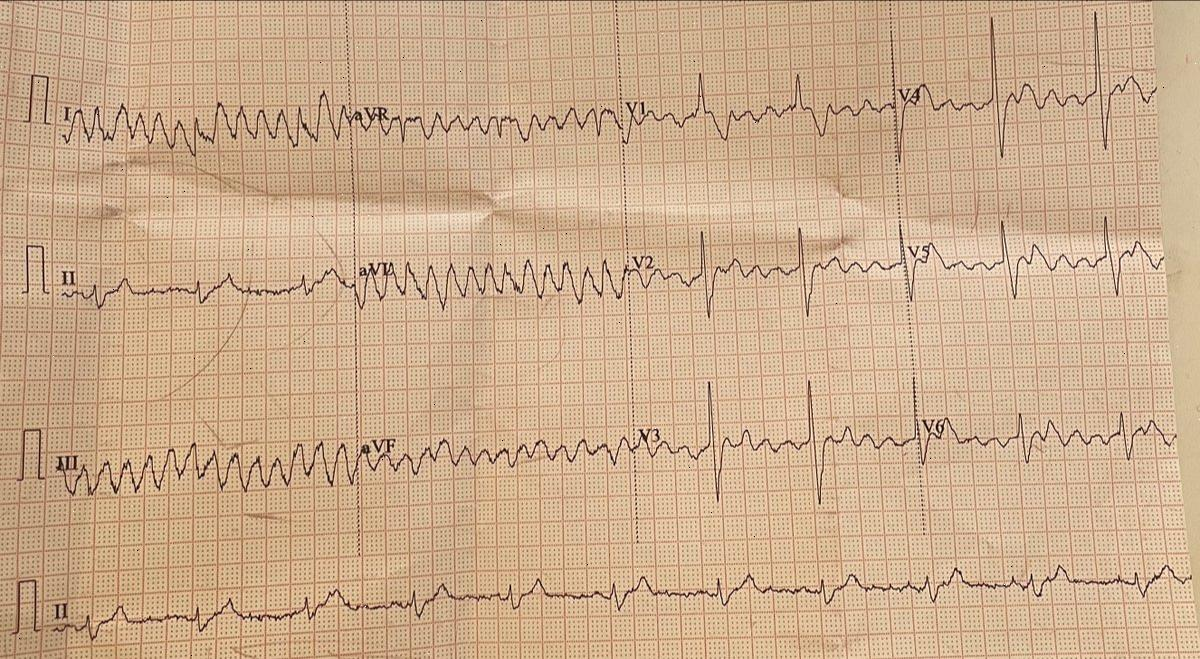Lead_I: (51, 81, 354, 164)
Lead_II: (56, 246, 358, 322)
Lead_III: (51, 426, 362, 506)
Lead_II_ext: (47, 562, 1196, 651)
Lead_V1: (621, 56, 896, 176)
Lead_V2: (629, 214, 909, 331)
Lead_V3: (633, 366, 929, 520)
Lead_V4: (895, 1, 1156, 179)
Lead_V5: (903, 204, 1174, 320)
Lead_V6: (918, 378, 1182, 485)
Lead_aVF: (356, 419, 638, 486)
Lead_aVL: (356, 242, 630, 314)
Lead_aVR: (352, 84, 624, 156)
